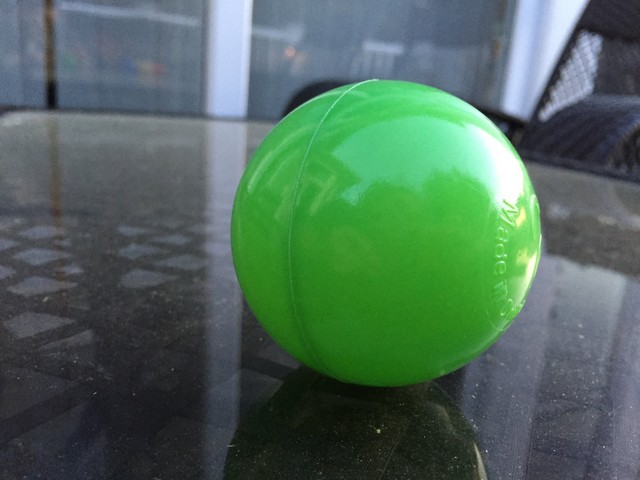Ball: (230, 80, 544, 384)
